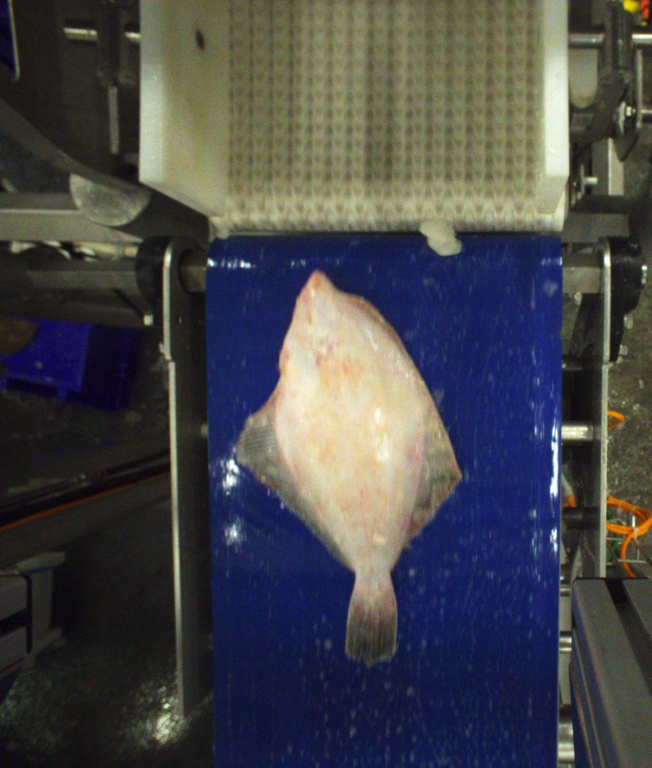PLE: (242, 269, 462, 663)
